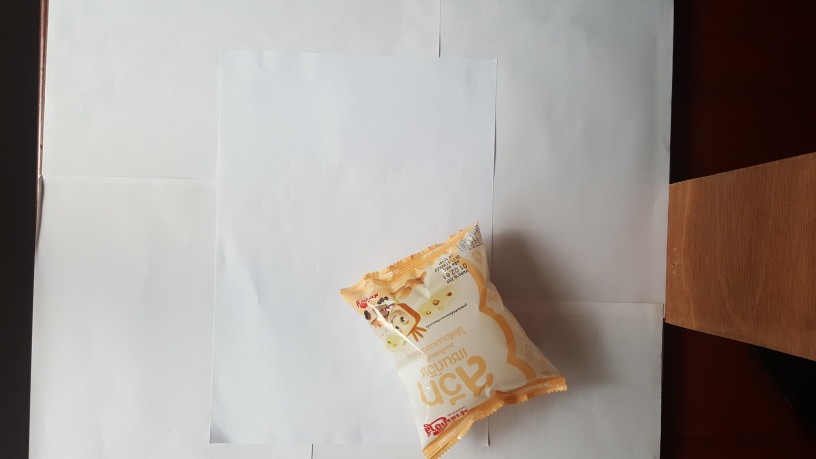farmhouse-sweetsandwich-almond: (335, 218, 572, 459)
